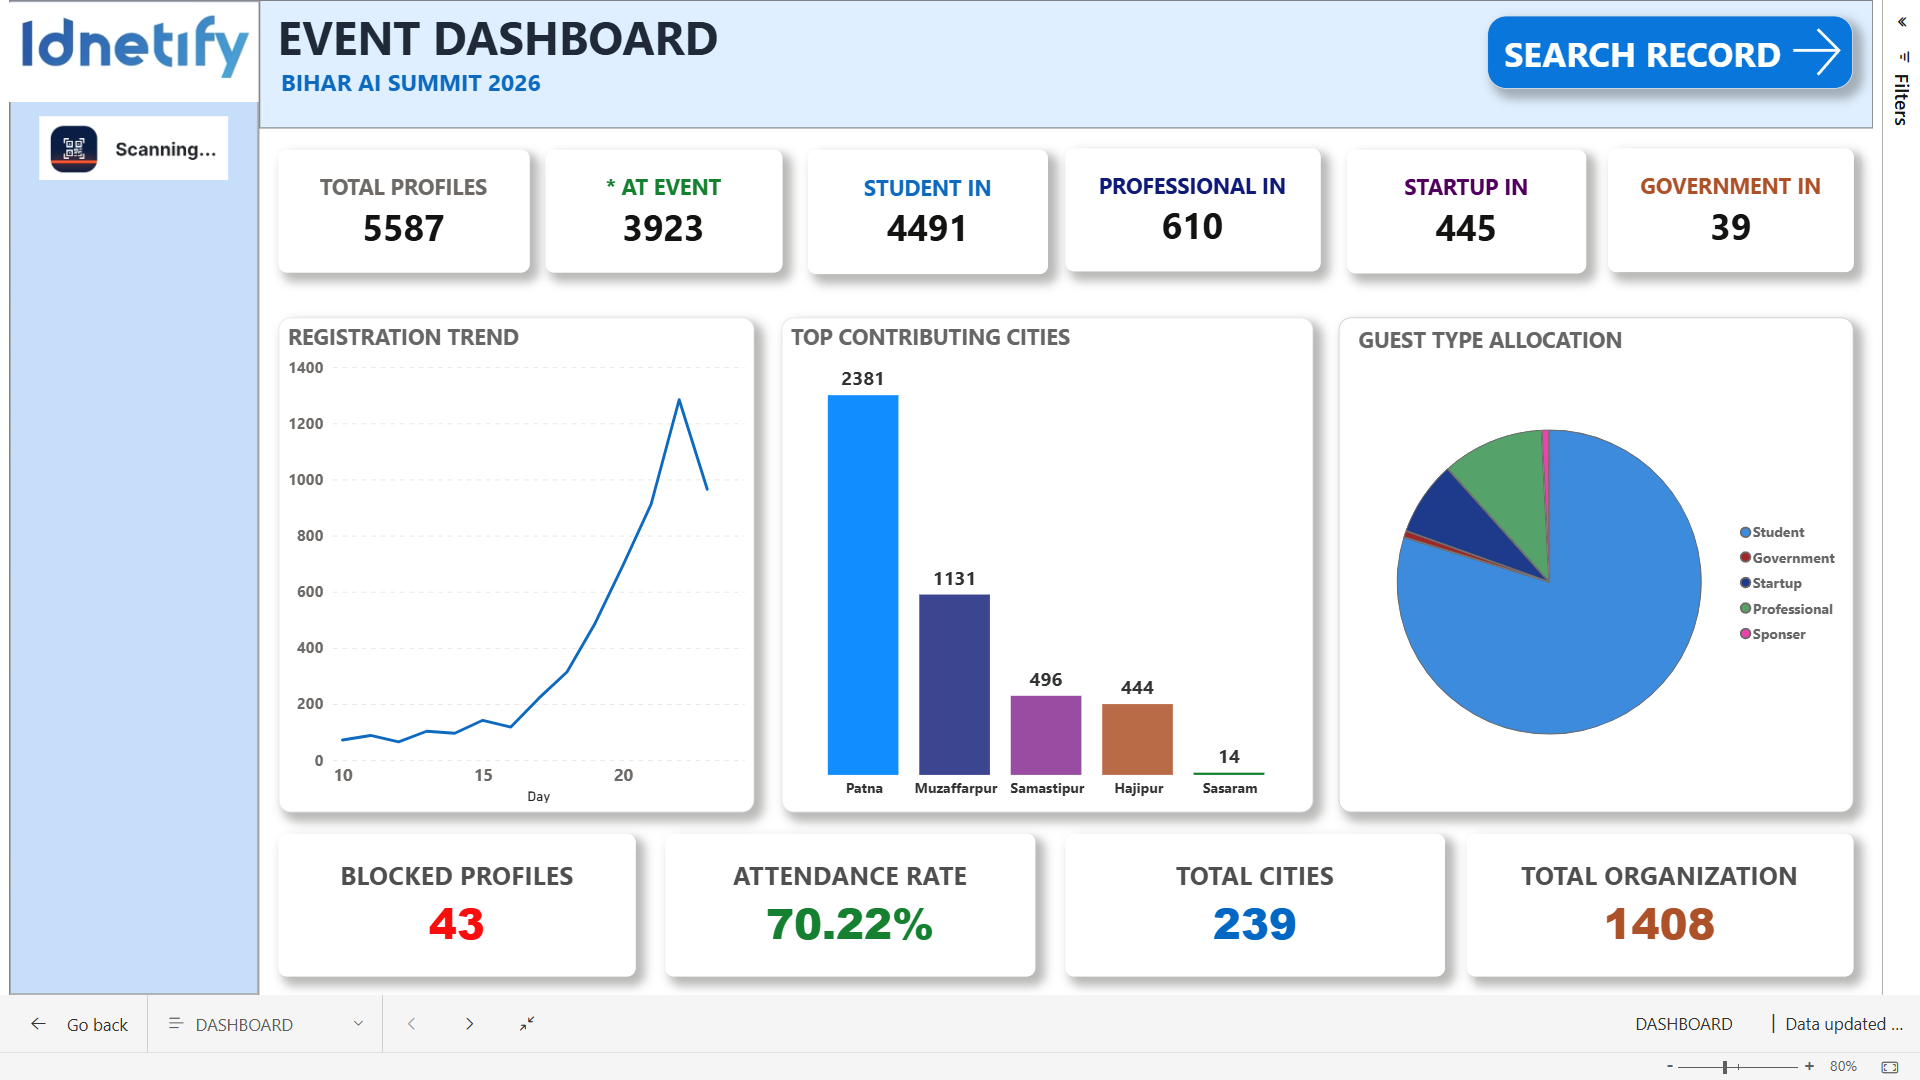

The dashboard page shown, as its layout file describes it:
{"tool":"powerbi","page":{"name":"DASHBOARD","canvas":[1953,1042],"ordinal":0},"visuals":[{"type":"shape","box":[0,0,261.9,1042.4],"z":0},{"type":"image","box":[0,121.5,261.4,66.6],"z":2000},{"type":"textbox","box":[262.3,0,1690.3,134.4],"z":3000},{"type":"cardVisual","fields":{"Data":["cleaned_guest_data.TOTAL_PROFILES"]},"box":[282.1,157.4,262.9,128.6],"z":4000},{"type":"cardVisual","fields":{"Data":["cleaned_guest_data.Student Count"]},"box":[836.8,157.4,251.4,130.5],"z":5000},{"type":"cardVisual","fields":{"Data":["cleaned_guest_data.Government Count"]},"box":[1675.5,155.7,257.4,129.5],"z":6000},{"type":"cardVisual","fields":{"Data":["cleaned_guest_data.Professional Count"]},"box":[1107.4,155.5,266.8,128.6],"z":7000},{"type":"cardVisual","fields":{"Data":["cleaned_guest_data.STARTUP IN"]},"box":[1401.7,157.4,250.8,129.5],"z":8000},{"type":"lineChart","title":"REGISTRATION TREND","fields":{"Category":["Table.Date.Variation.Date Hierarchy.Day"],"Y":["Sum(Table.Registration)"]},"box":[282,332.3,498.5,518.6],"z":9000},{"type":"pieChart","title":"GUEST TYPE ALLOCATION","fields":{"Y":["cleaned_guest_data.Student Count","cleaned_guest_data.Government Count","cleaned_guest_data.STARTUP IN","cleaned_guest_data.Professional Count","cleaned_guest_data.Sponser"]},"box":[1393.3,332,539.3,518.2],"z":9001},{"type":"cardVisual","fields":{"Data":["cleaned_guest_data.AT EVENT"]},"box":[562.3,157.4,247.6,128.6],"z":9002},{"type":"clusteredColumnChart","title":"TOP CONTRIBUTING CITIES","fields":{"Y":["CountNonNull(cleaned_guest_data.Name)"],"Category":["cleaned_guest_data.City_Dummy"]},"box":[809.9,332,556.6,518.2],"z":9003},{"type":"actionButton","box":[1550.1,28.3,383,76.6],"z":9004},{"type":"cardVisual","fields":{"Data":["cleaned_guest_data.BLOCKED PROFILES"]},"box":[282.1,873.2,374.2,149.7],"z":9005},{"type":"cardVisual","fields":{"Data":["cleaned_guest_data.Attendance Rate"]},"box":[687.1,873.2,387.7,149.7],"z":9006},{"type":"cardVisual","fields":{"Data":["cleaned_guest_data.Total Cities"]},"box":[1107.4,873.2,397.3,149.7],"z":9007},{"type":"cardVisual","fields":{"Data":["cleaned_guest_data.TOTAL ORGANIZATION"]},"box":[1527.7,873.2,404.9,149.7],"z":9008},{"type":"image","box":[0,0,261.4,109.9],"z":9009}]}

Visuals, with their boxes on the page's 1953x1042 design canvas (x1, y1, x2, y2). These are canvas units, not pixel positions in the 1920x1080 screenshot, which may show the page scaled, cropped or inside an application window:
shape: <bbox>0, 0, 262, 1042</bbox>
image: <bbox>0, 122, 261, 188</bbox>
textbox: <bbox>262, 0, 1953, 134</bbox>
cardVisual - cleaned_guest_data.TOTAL_PROFILES: <bbox>282, 157, 545, 286</bbox>
cardVisual - cleaned_guest_data.Student Count: <bbox>837, 157, 1088, 288</bbox>
cardVisual - cleaned_guest_data.Government Count: <bbox>1676, 156, 1933, 285</bbox>
cardVisual - cleaned_guest_data.Professional Count: <bbox>1107, 156, 1374, 284</bbox>
cardVisual - cleaned_guest_data.STARTUP IN: <bbox>1402, 157, 1652, 287</bbox>
"REGISTRATION TREND" lineChart: <bbox>282, 332, 780, 851</bbox>
"GUEST TYPE ALLOCATION" pieChart: <bbox>1393, 332, 1933, 850</bbox>
cardVisual - cleaned_guest_data.AT EVENT: <bbox>562, 157, 810, 286</bbox>
"TOP CONTRIBUTING CITIES" clusteredColumnChart: <bbox>810, 332, 1366, 850</bbox>
actionButton: <bbox>1550, 28, 1933, 105</bbox>
cardVisual - cleaned_guest_data.BLOCKED PROFILES: <bbox>282, 873, 656, 1023</bbox>
cardVisual - cleaned_guest_data.Attendance Rate: <bbox>687, 873, 1075, 1023</bbox>
cardVisual - cleaned_guest_data.Total Cities: <bbox>1107, 873, 1505, 1023</bbox>
cardVisual - cleaned_guest_data.TOTAL ORGANIZATION: <bbox>1528, 873, 1933, 1023</bbox>
image: <bbox>0, 0, 261, 110</bbox>
